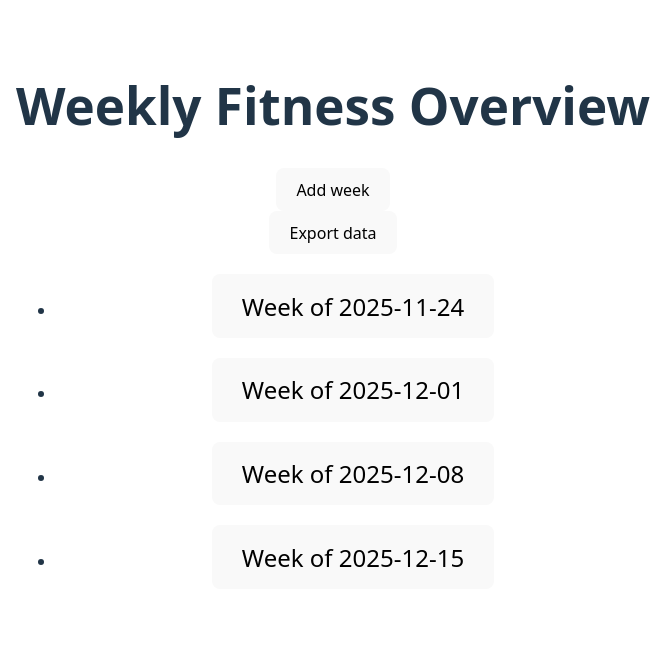
Test: WeeklyOverviewPage › add week: opens a picker when the current week already exists
Click the button "Add week": (333, 190) [276, 168, 390, 211]
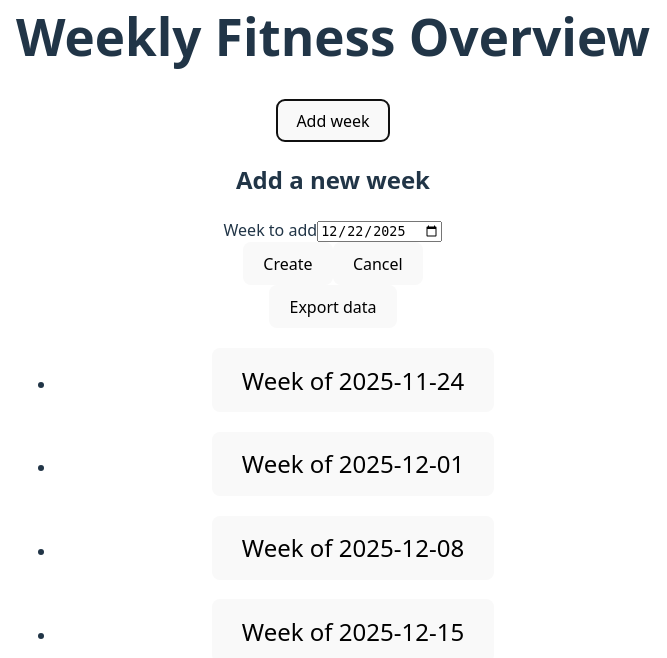
expect the date field labelled "Week to add" is shown: met, box [317, 221, 442, 242]
expect the button "Create" is shown: met, box [243, 242, 333, 285]
expect the button "Cancel" is shown: met, box [333, 242, 423, 285]
